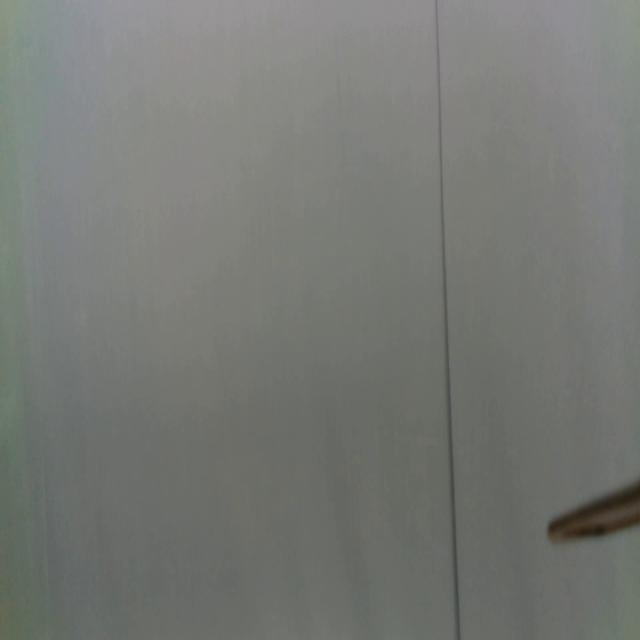crease: (435, 1, 462, 640)
